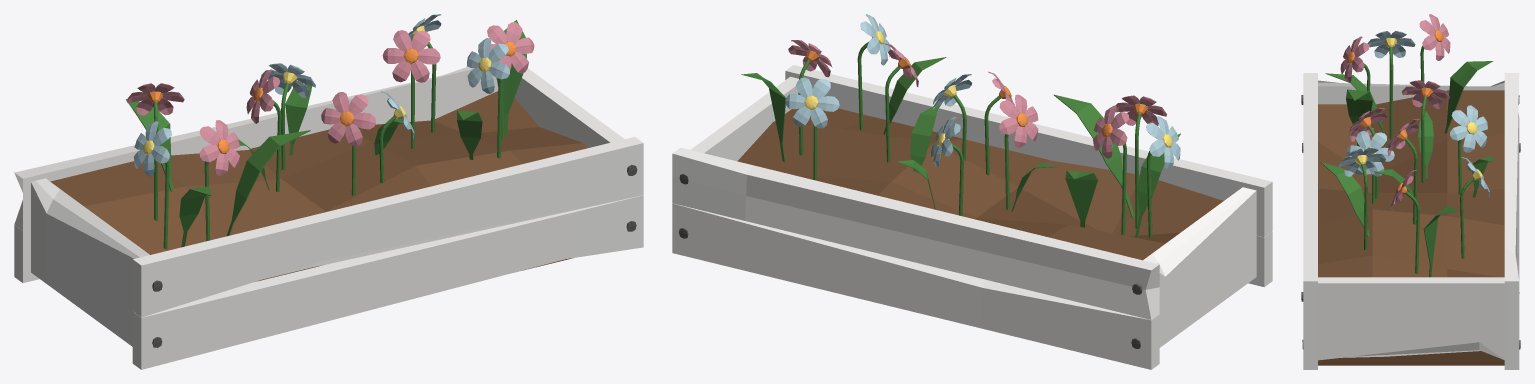
Rendered from Garden_1.fbx.
3 renders of one model, left to right at view 1: azimuth 30°, elevation 25°; view 2: azimuth 150°, elevation 25°; view 3: azimuth 270°, elevation 25°, orthographic. The views are drawn at different scales.
Parts seen in each view (by area): view 1: Garden_1; view 2: Garden_1; view 3: Garden_1.
Part boxes in pixels (x1,y1,x2,y2): Garden_1: [14, 14, 643, 369]; Garden_1: [672, 14, 1272, 369]; Garden_1: [1301, 14, 1520, 369].
Bounding box in the file's own units: 204 × 91.1 × 83.01.
